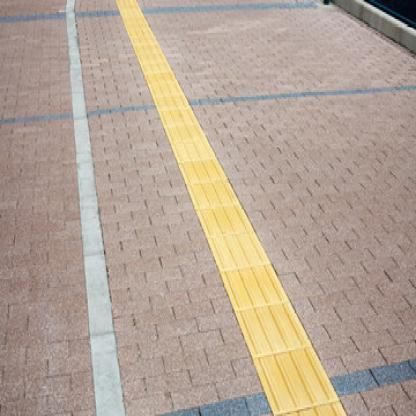podotacti: (104, 0, 367, 416)
